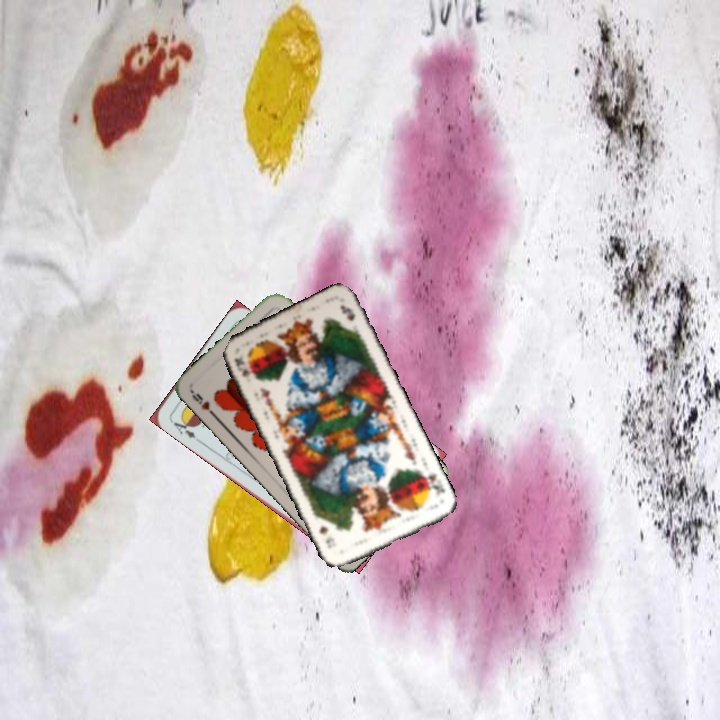EA: (167, 413, 202, 445)
H9: (187, 386, 219, 420)
SK: (230, 352, 258, 385), (418, 468, 448, 497)
